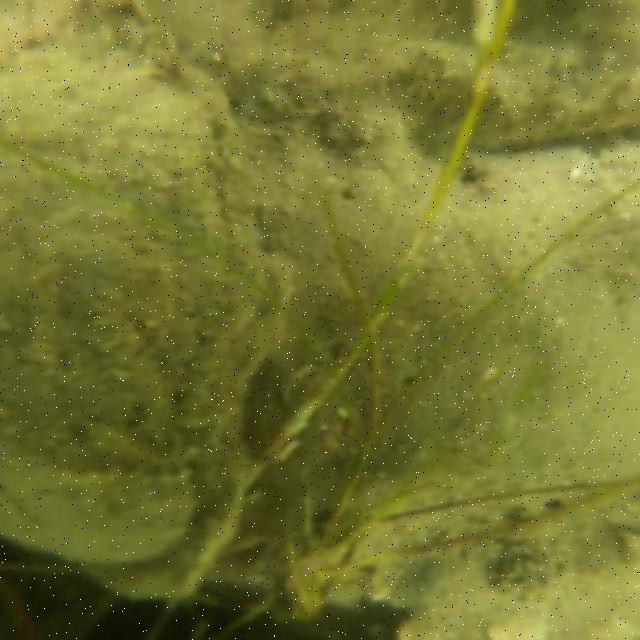Oyster-Closed: (3, 1, 297, 568), (2, 457, 212, 559)
